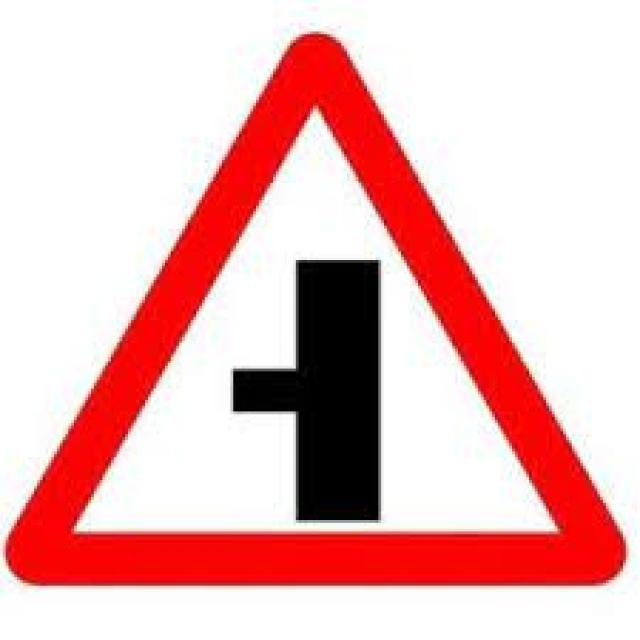side road left: (16, 38, 618, 585)
